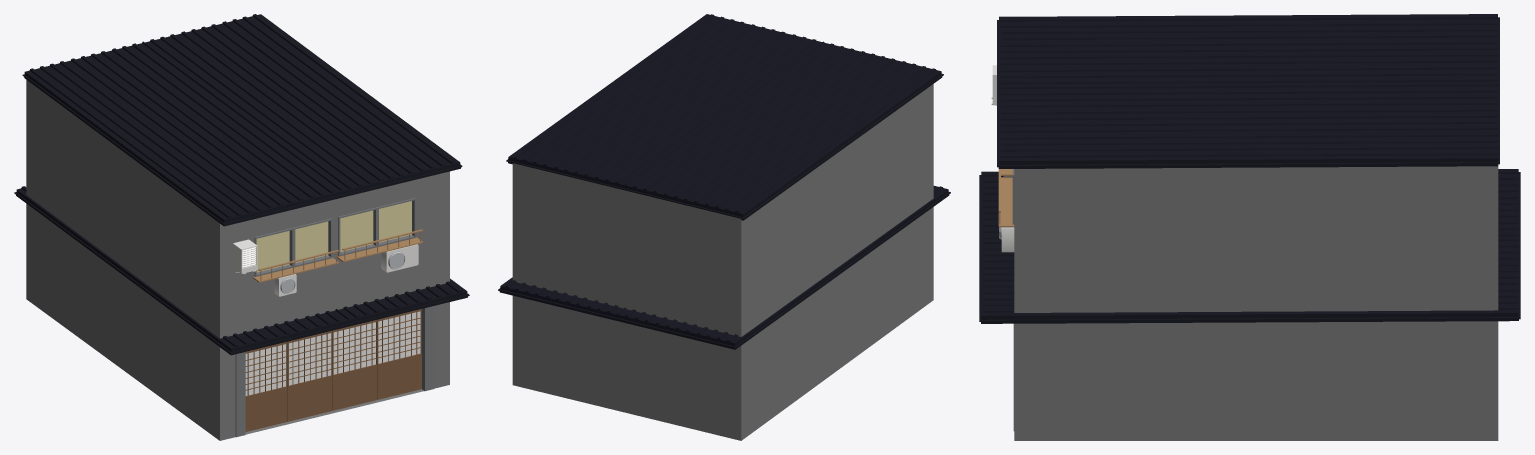
The model's file is SM_building_alley_japan_02.fbx.
3 renders of one model, left to right at view 1: azimuth 30°, elevation 25°; view 2: azimuth 150°, elevation 25°; view 3: azimuth 270°, elevation 25°, orthographic. The views are drawn at different scales.
Parts seen in each view (by area): view 1: Object030; view 2: Object030; view 3: Object030.
Boxes of the visible parts, bbox=[...] form: Object030: bbox=[14, 14, 469, 440]; Object030: bbox=[498, 14, 950, 440]; Object030: bbox=[979, 14, 1520, 440].
Size of the model in its own units: 306 by 481 by 281.
